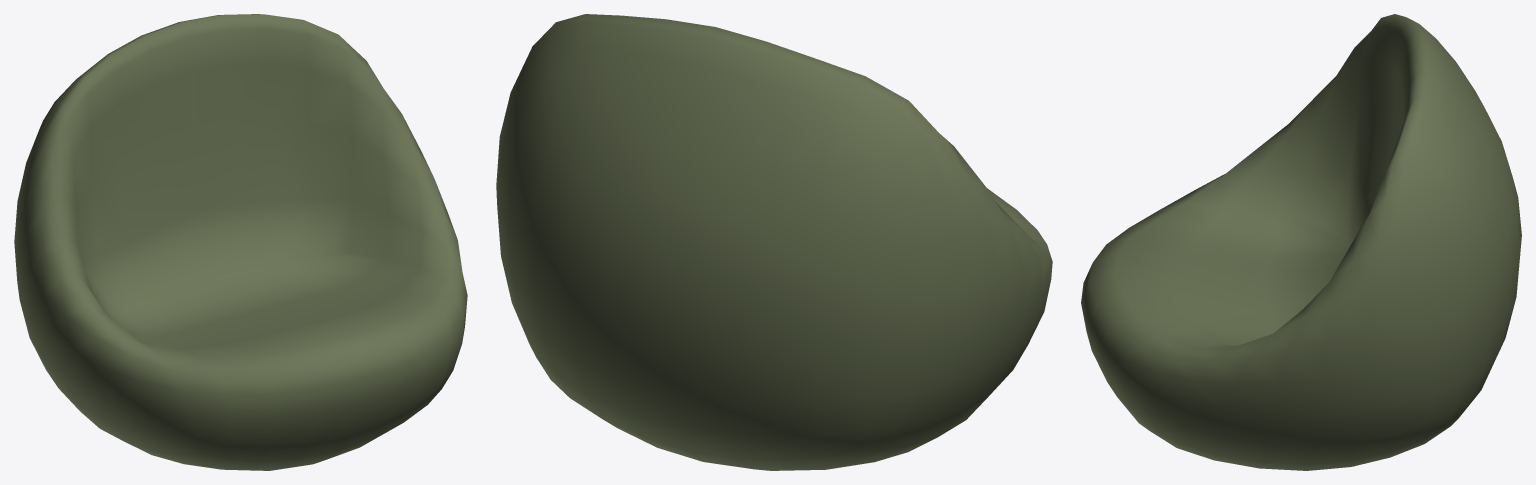
Rendered from lounge_seat.fbx.
3 renders of one model, left to right at view 1: azimuth 30°, elevation 25°; view 2: azimuth 150°, elevation 25°; view 3: azimuth 270°, elevation 25°, orthographic. The views are drawn at different scales.
Visible parts, largest first — view 1: chair_dynamic.002; view 2: chair_dynamic.002; view 3: chair_dynamic.002.
Boxes of the visible parts, left/top/right/bottom form: chair_dynamic.002: left=14, top=14, right=467, bottom=470; chair_dynamic.002: left=496, top=14, right=1052, bottom=470; chair_dynamic.002: left=1081, top=14, right=1521, bottom=470.
Size of the model in its own units: 115 by 98.24 by 106.
